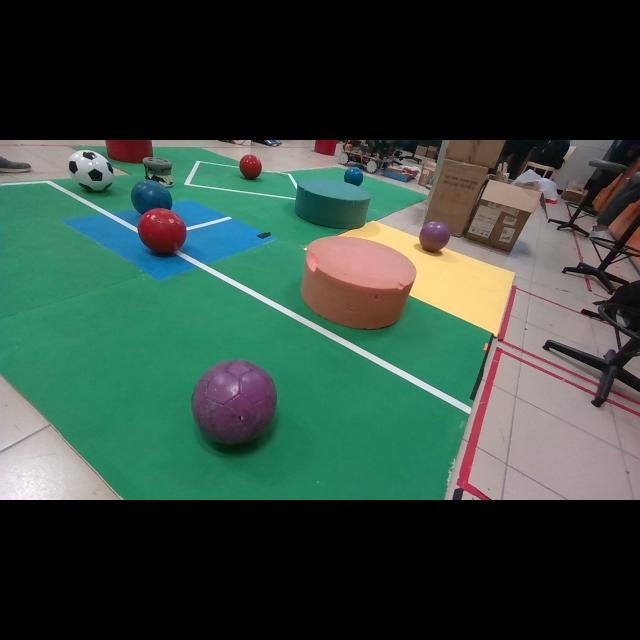B: (132, 180, 172, 214), (344, 166, 364, 186)
P: (191, 360, 278, 444), (419, 221, 450, 252)
R: (139, 208, 186, 255), (239, 155, 261, 179)
